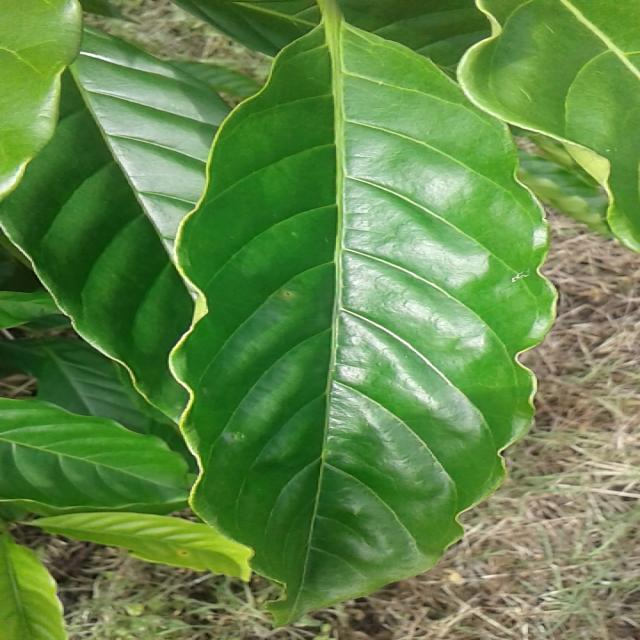Sanas: (167, 28, 556, 620)
